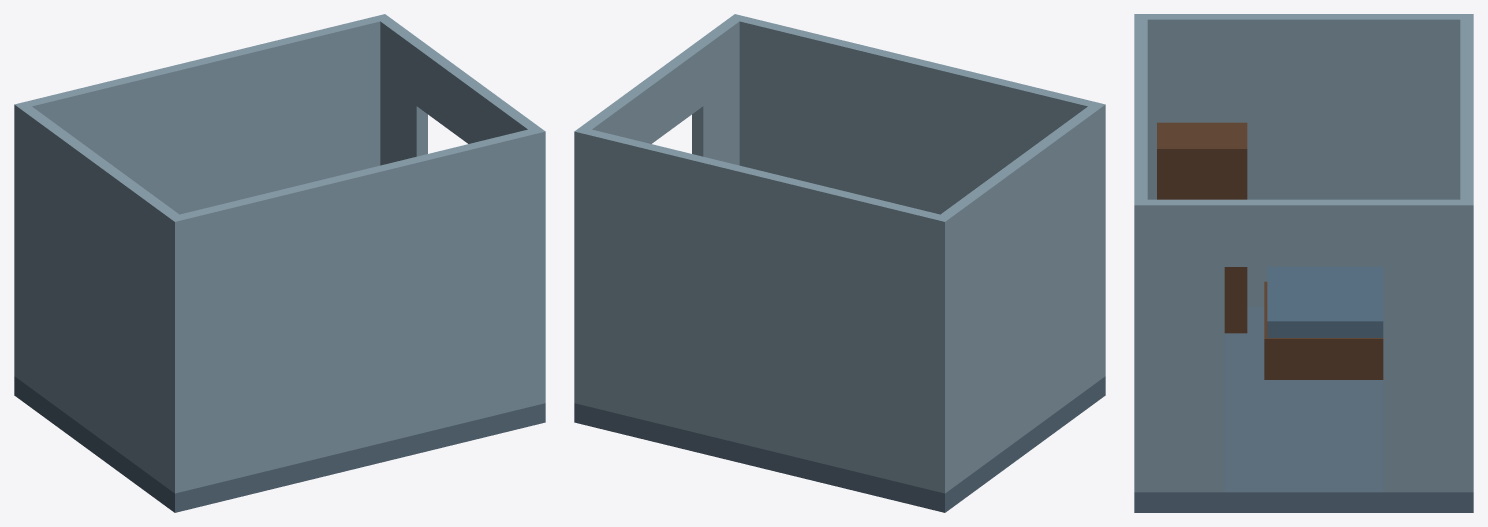
The model's file is room-1.glb.
3 views of the same model, side by side, from view 1: azimuth 30°, elevation 25°; view 2: azimuth 150°, elevation 25°; view 3: azimuth 270°, elevation 25° (orthographic). The views are drawn at different scales.
Visible parts, largest first — view 1: Room 1 south wall end, Room 1 west wall end, Room 1 north wall end, Room 1 Floor, Room 1 east wall segment 1, Room 1 east wall door 1 lintel, Room 1 east wall end; view 2: Room 1 north wall end, Room 1 west wall end, Room 1 south wall end, Room 1 Floor, Room 1 east wall end, Room 1 east wall door 1 lintel, Room 1 east wall segment 1; view 3: Room 1 west wall end, Room 1 Floor, Room 1 east wall end, Room 1 east wall segment 1, Room 1 east wall door 1 lintel, Room 1 Wardrobe, Room 1 Mattress, Room 1 north wall end, Room 1 south wall end, Room 1 Bed frame.
Part boxes in pixels (bbox=[...]): Room 1 south wall end: bbox=[168, 127, 545, 493]; Room 1 west wall end: bbox=[14, 103, 185, 492]; Room 1 north wall end: bbox=[14, 14, 390, 380]; Room 1 Floor: bbox=[14, 376, 545, 512]; Room 1 east wall segment 1: bbox=[375, 14, 427, 165]; Room 1 east wall door 1 lintel: bbox=[416, 45, 502, 143]; Room 1 east wall end: bbox=[491, 100, 545, 405]; Room 1 north wall end: bbox=[574, 127, 951, 493]; Room 1 west wall end: bbox=[934, 104, 1105, 493]; Room 1 south wall end: bbox=[729, 14, 1105, 380]; Room 1 Floor: bbox=[574, 376, 1105, 512]; Room 1 east wall end: bbox=[692, 15, 744, 165]; Room 1 east wall door 1 lintel: bbox=[617, 45, 703, 143]; Room 1 east wall segment 1: bbox=[574, 100, 628, 400]; Room 1 west wall end: bbox=[1134, 14, 1473, 306]; Room 1 Floor: bbox=[1134, 307, 1473, 512]; Room 1 east wall end: bbox=[1134, 199, 1224, 492]; Room 1 east wall segment 1: bbox=[1383, 199, 1473, 492]; Room 1 east wall door 1 lintel: bbox=[1224, 199, 1383, 266]; Room 1 Wardrobe: bbox=[1157, 122, 1247, 333]; Room 1 Mattress: bbox=[1267, 267, 1383, 337]; Room 1 north wall end: bbox=[1460, 14, 1473, 492]; Room 1 south wall end: bbox=[1134, 14, 1147, 492]; Room 1 Bed frame: bbox=[1264, 281, 1383, 379].
Size of the model in its own units: 4 by 3 by 3.
